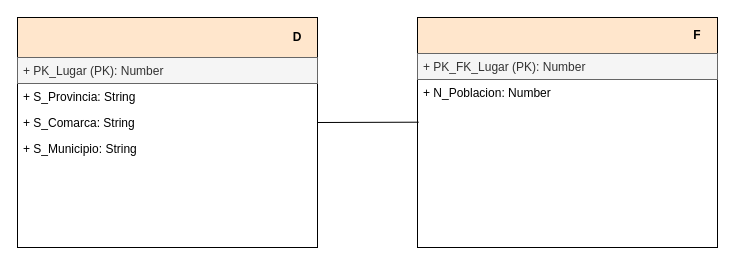
The diagram is 735 pixels wide and 265 high, and some of its shapes have lost their labels. Each missing label, with the box of its shape:
Dim_Lugar: (16, 16, 318, 58)
Fact_Poblacion: (416, 16, 718, 54)
